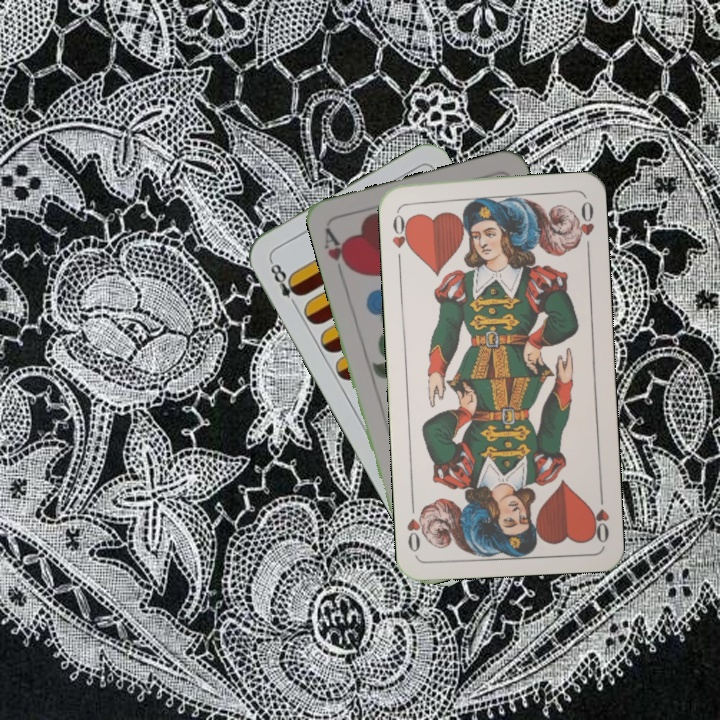E8: (265, 256, 305, 311)
HA: (320, 224, 355, 281)
HO: (388, 206, 414, 265), (587, 486, 612, 545)
